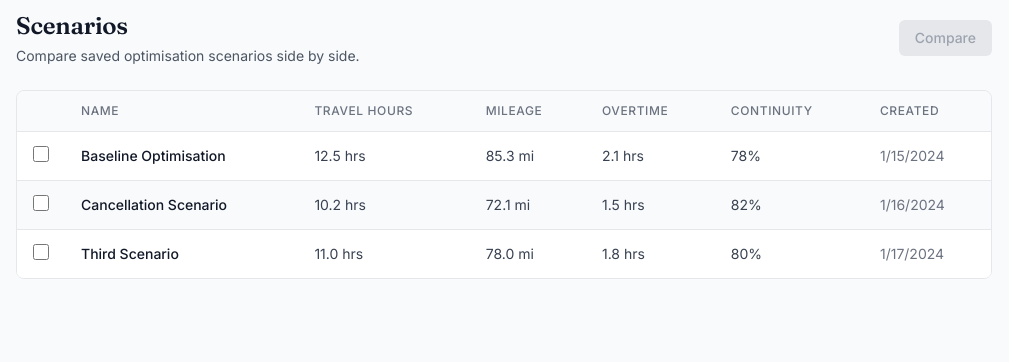
Test: ScenariosPage › shows error banner when comparison API fails
Expected: the text "Baseline Optimisation" is shown, [65,132,298,180]
What coordinates should you click on to do the following:
click the checkbox named "Select Baseline Optimisation for comparison"
I would click on:
 (41, 154)
Its box is [33,146,49,162].
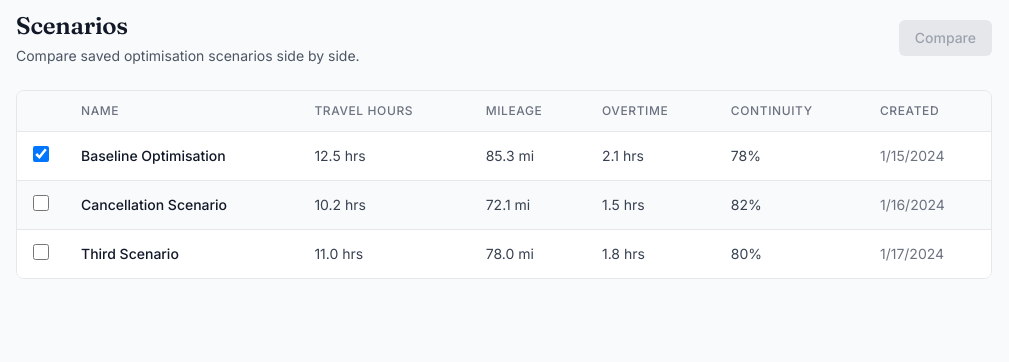
What coordinates should you click on to do the following:
click the checkbox named "Select Cancellation Scenario for comparison"
I would click on:
 (41, 203)
Its box is [33,195,49,211].
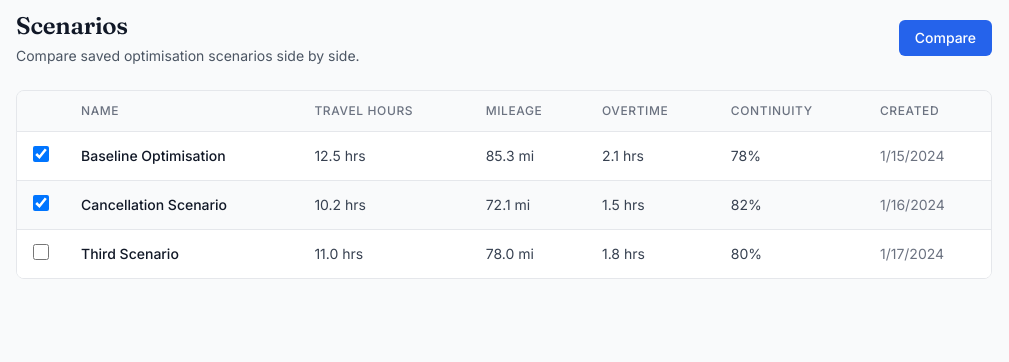
What coordinates should you click on to do the following:
click the button "Compare"
I would click on:
 (945, 38)
Its box is [899,20,992,56].
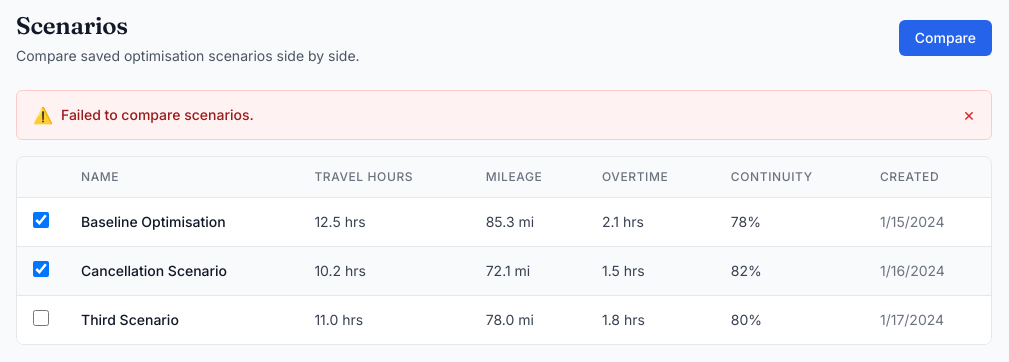
Result: the text "Failed to compare scenarios." is shown at [61,105,254,125]
